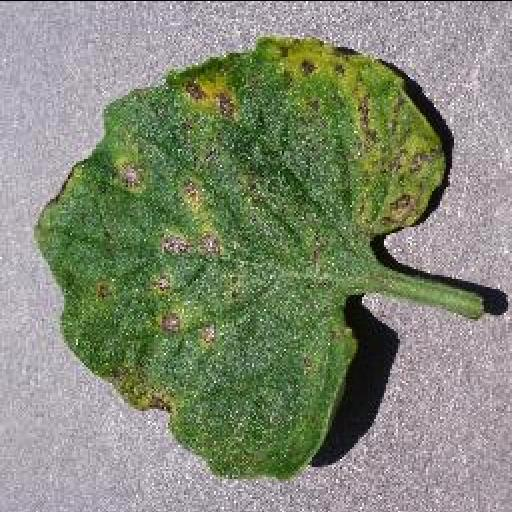disease_tomato: (34, 38, 450, 476)
